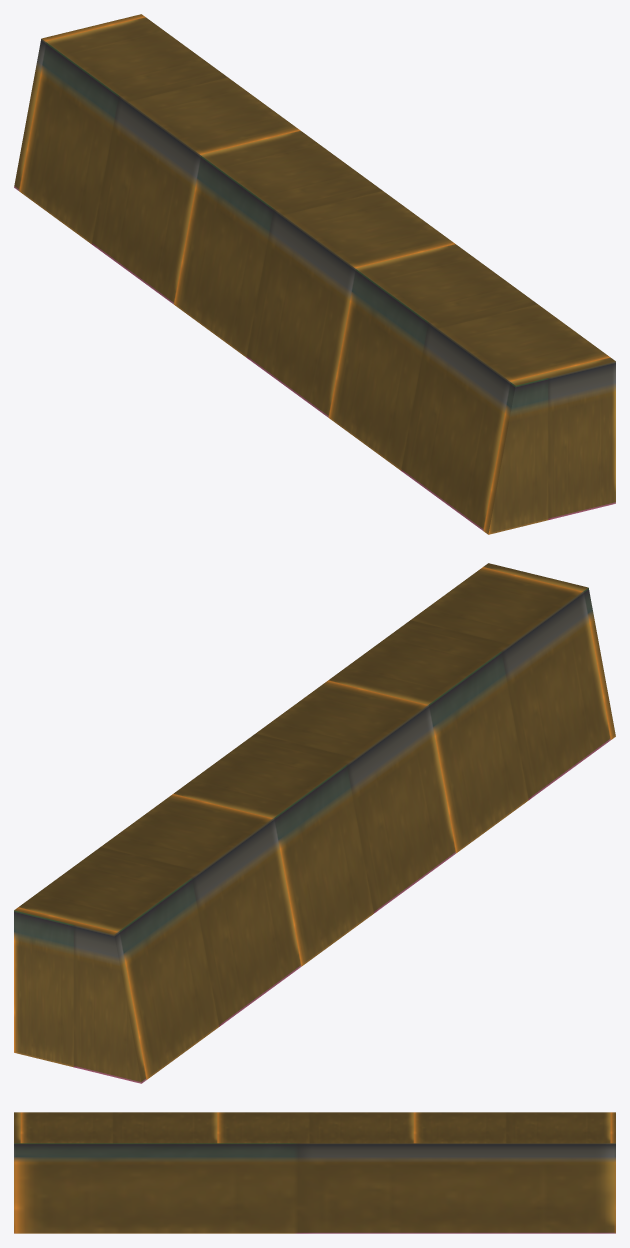
3 renders of one model, top to bottom at view 1: azimuth 30°, elevation 25°; view 2: azimuth 150°, elevation 25°; view 3: azimuth 270°, elevation 25°, orthographic. The views are drawn at different scales.
Visible parts, largest first — view 1: Box22; view 2: Box22; view 3: Box22.
Boxes of the visible parts, x1,y1,x2,y2 form: Box22: (14,14,615,534); Box22: (14,563,615,1083); Box22: (14,1112,615,1233).
Size of the model in its own units: 144 by 154 by 931.
Materials: 1 (1 with a texture image).
